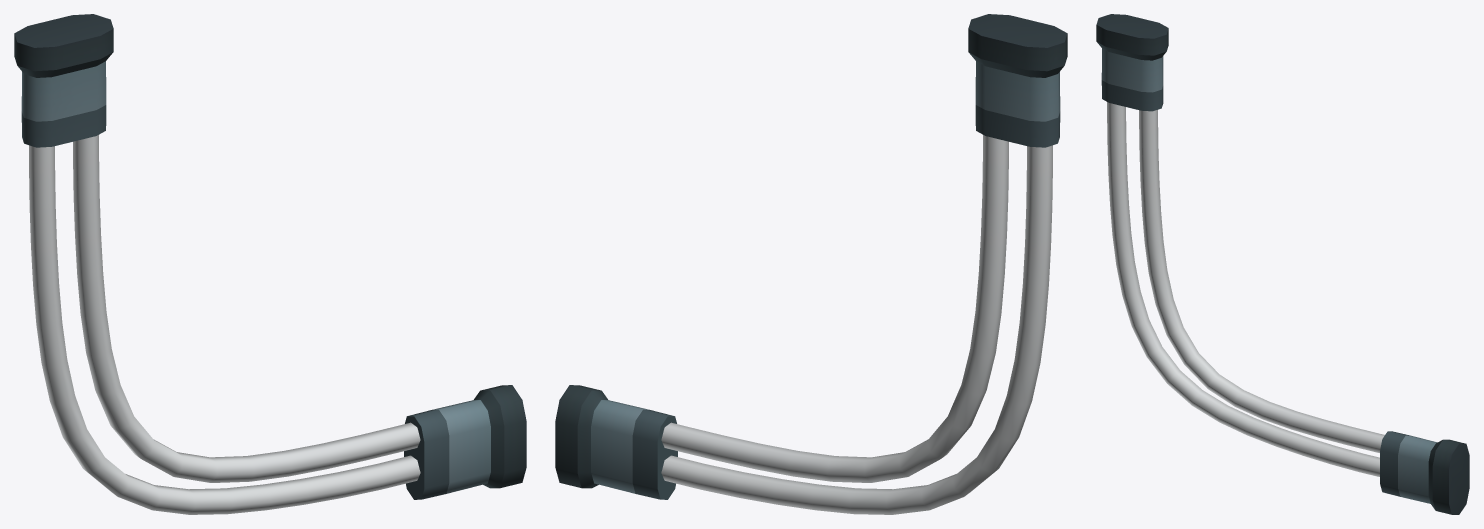
The model's file is Cable_type_B_008.fbx.
3 views of the same model, side by side, from view 1: azimuth 30°, elevation 25°; view 2: azimuth 150°, elevation 25°; view 3: azimuth 330°, elevation 25° (orthographic). The views are drawn at different scales.
Visible parts, largest first — view 1: Cable_type_B_008; view 2: Cable_type_B_008; view 3: Cable_type_B_008.
Boxes of the visible parts, x1=… form: Cable_type_B_008: x1=14, y1=14, x2=526, y2=514; Cable_type_B_008: x1=555, y1=14, x2=1067, y2=514; Cable_type_B_008: x1=1096, y1=14, x2=1469, y2=514.
Size of the model in its own units: 79.2 by 7.83 by 85.77.
